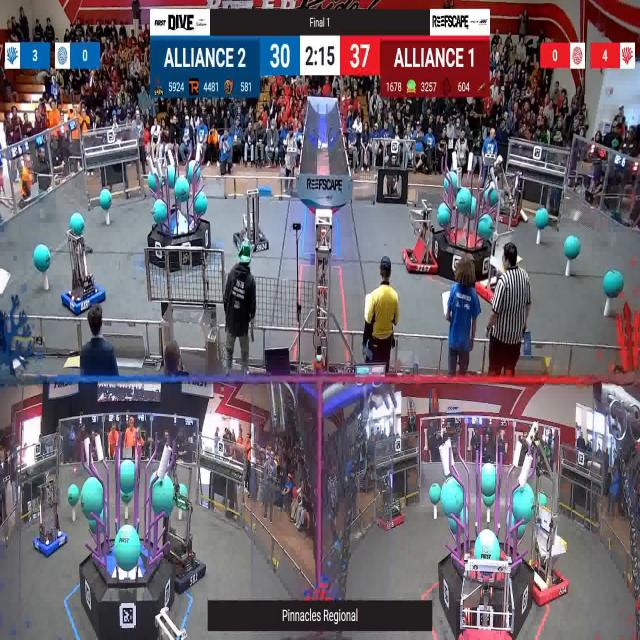scoreboard: (151, 38, 489, 96)
